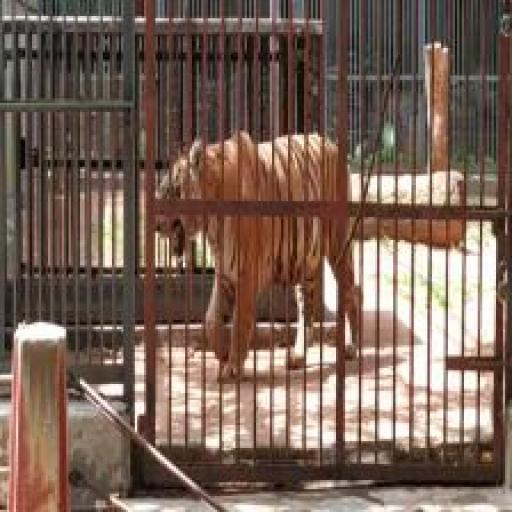Tiger: (142, 107, 393, 430), (402, 418, 409, 432)
